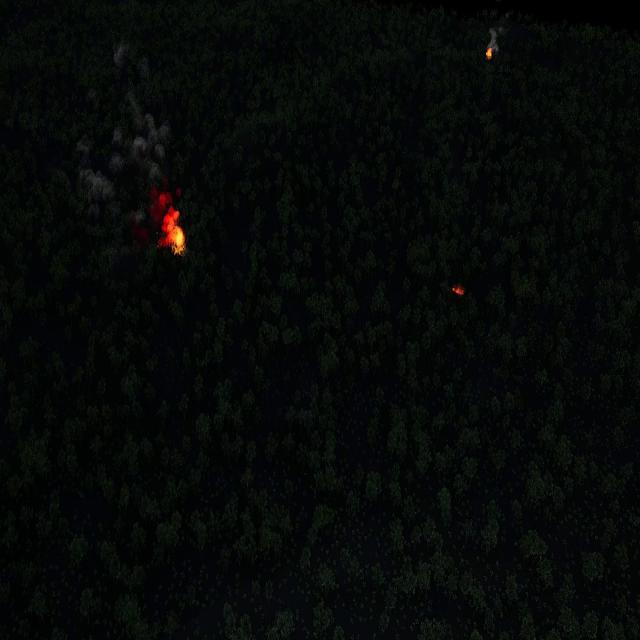fire: (162, 207, 186, 254), (452, 283, 465, 297), (486, 49, 493, 61)
smoke: (81, 43, 175, 223), (488, 23, 506, 54)
